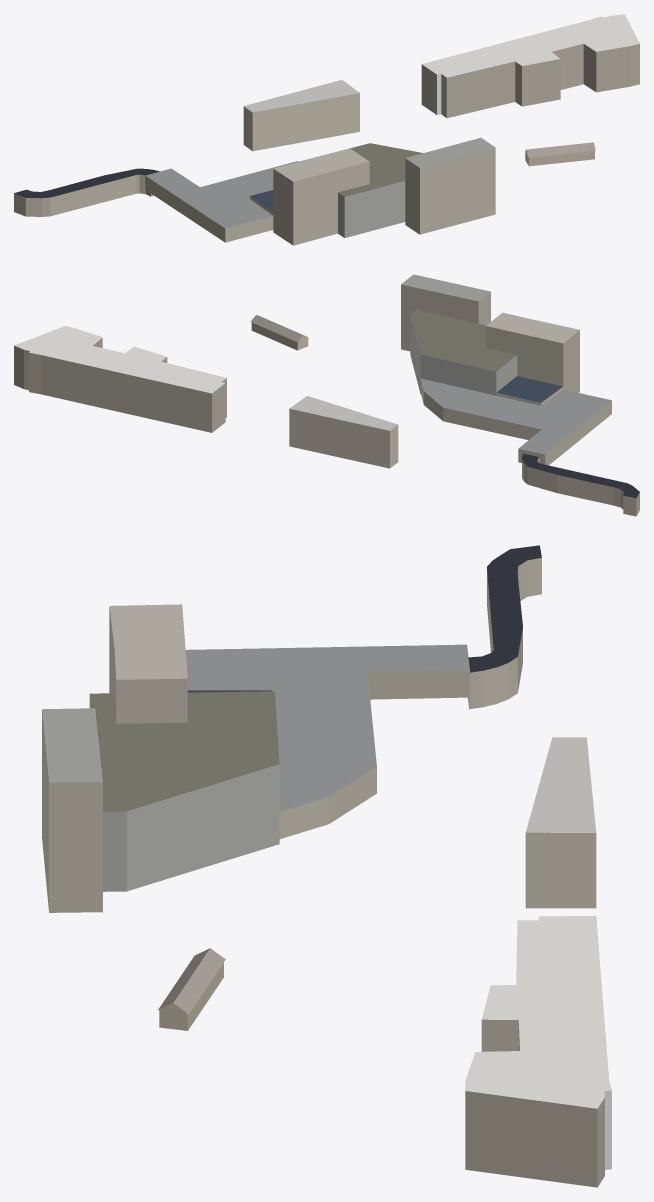
The picture shows the model from 3 angles, top to bottom: view 1: azimuth 30°, elevation 25°; view 2: azimuth 150°, elevation 25°; view 3: azimuth 270°, elevation 25°; orthographic projection. The views are drawn at different scales.
Parts seen in each view (by area): view 1: tuile; view 2: tuile; view 3: tuile.
Part boxes in pixels (x1,y1,x2,y2): tuile: (14, 14, 639, 245); tuile: (14, 274, 639, 516); tuile: (42, 545, 611, 1187).
Size of the model in its own units: 326 by 38.03 by 132.
